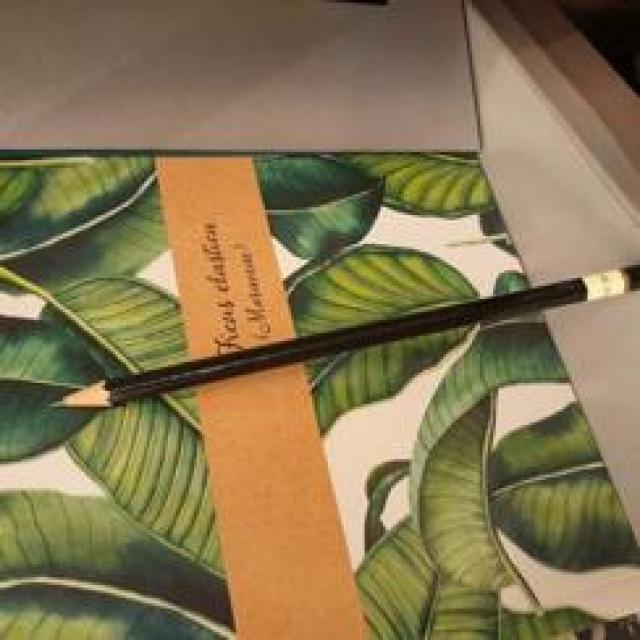pencil: (21, 253, 637, 435)
